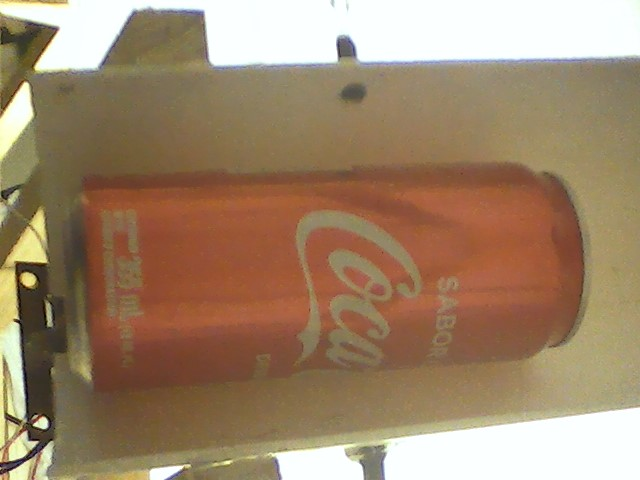lata: (59, 156, 601, 402)
